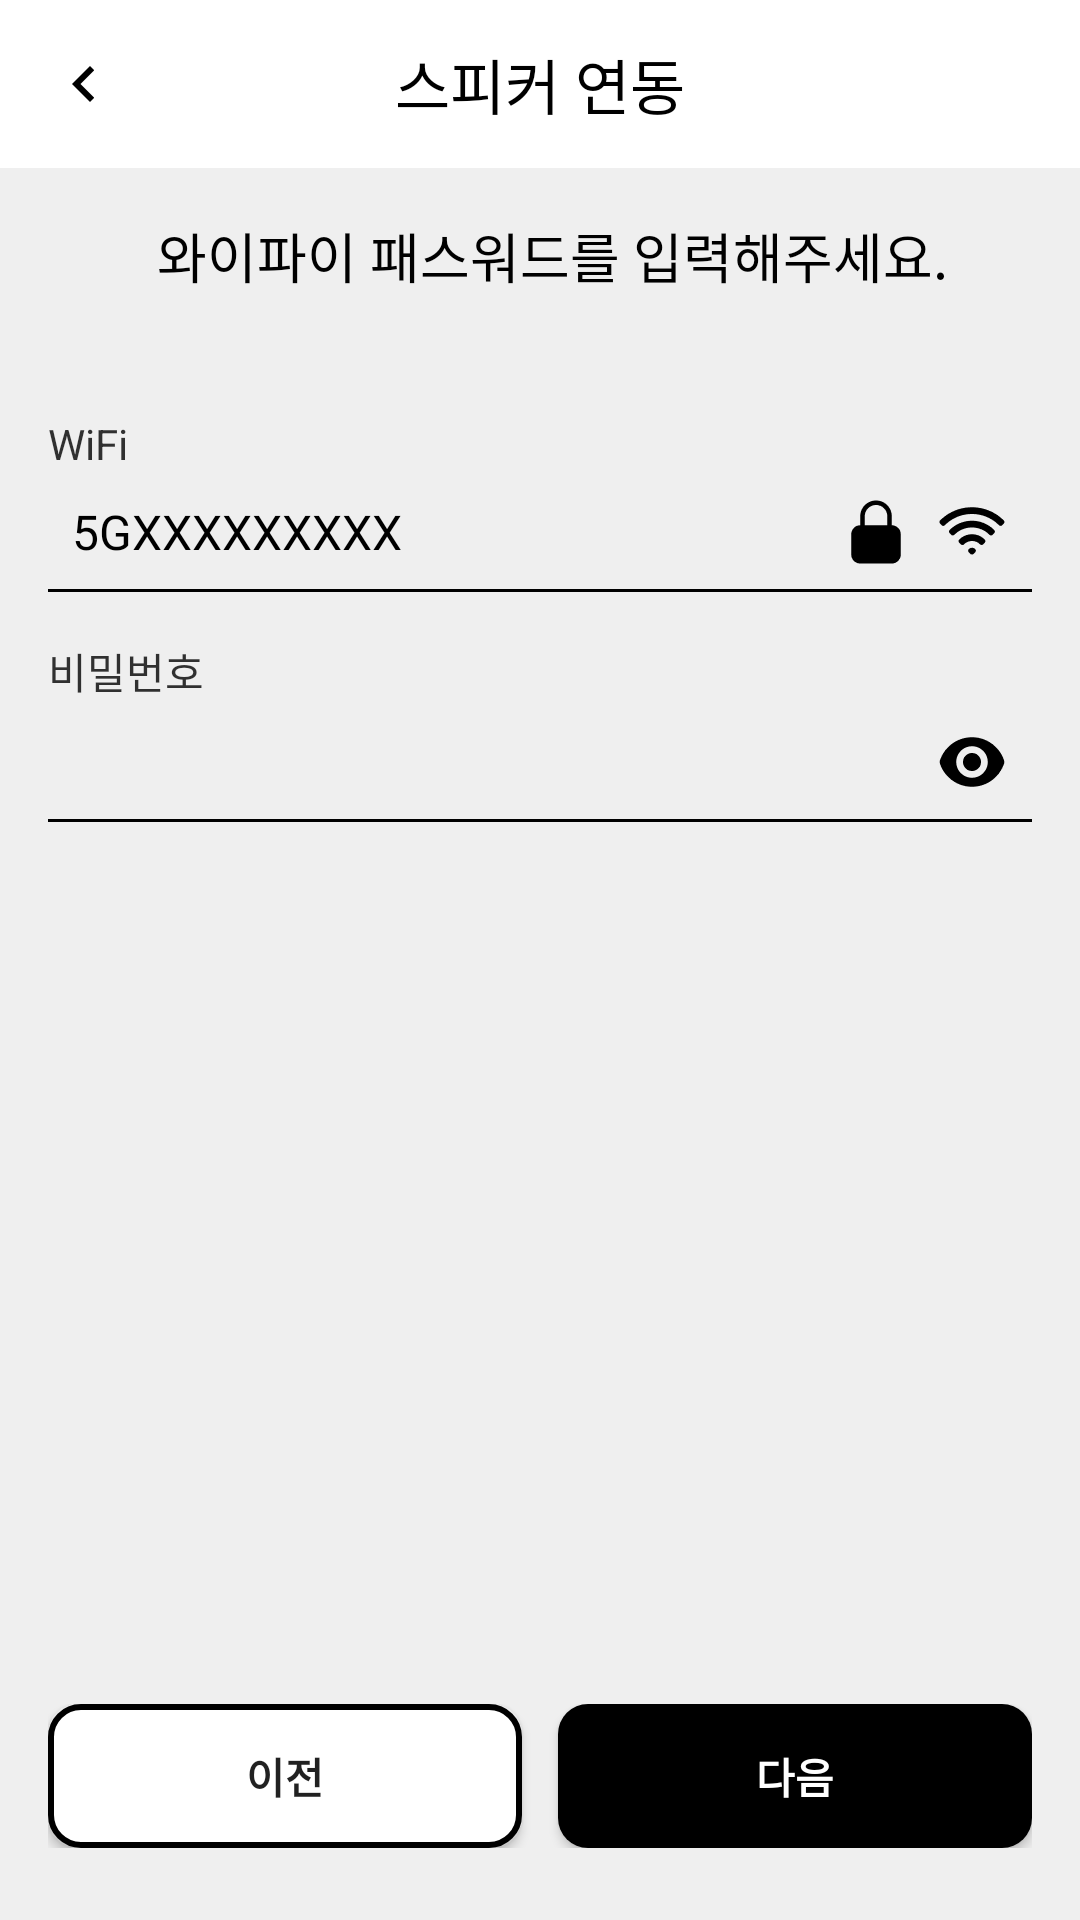

Where icons sit on this 1080x1920 app screen, as (x1=x1, y1=y1, x2=x2, y2=y2):
eye passowrd: (x1=939, y1=737, x2=1005, y2=787)
navigation chevron left: (x1=72, y1=66, x2=94, y2=102)
wifi antena: (x1=939, y1=507, x2=1005, y2=555)
wifi secu: (x1=851, y1=500, x2=901, y2=564)
